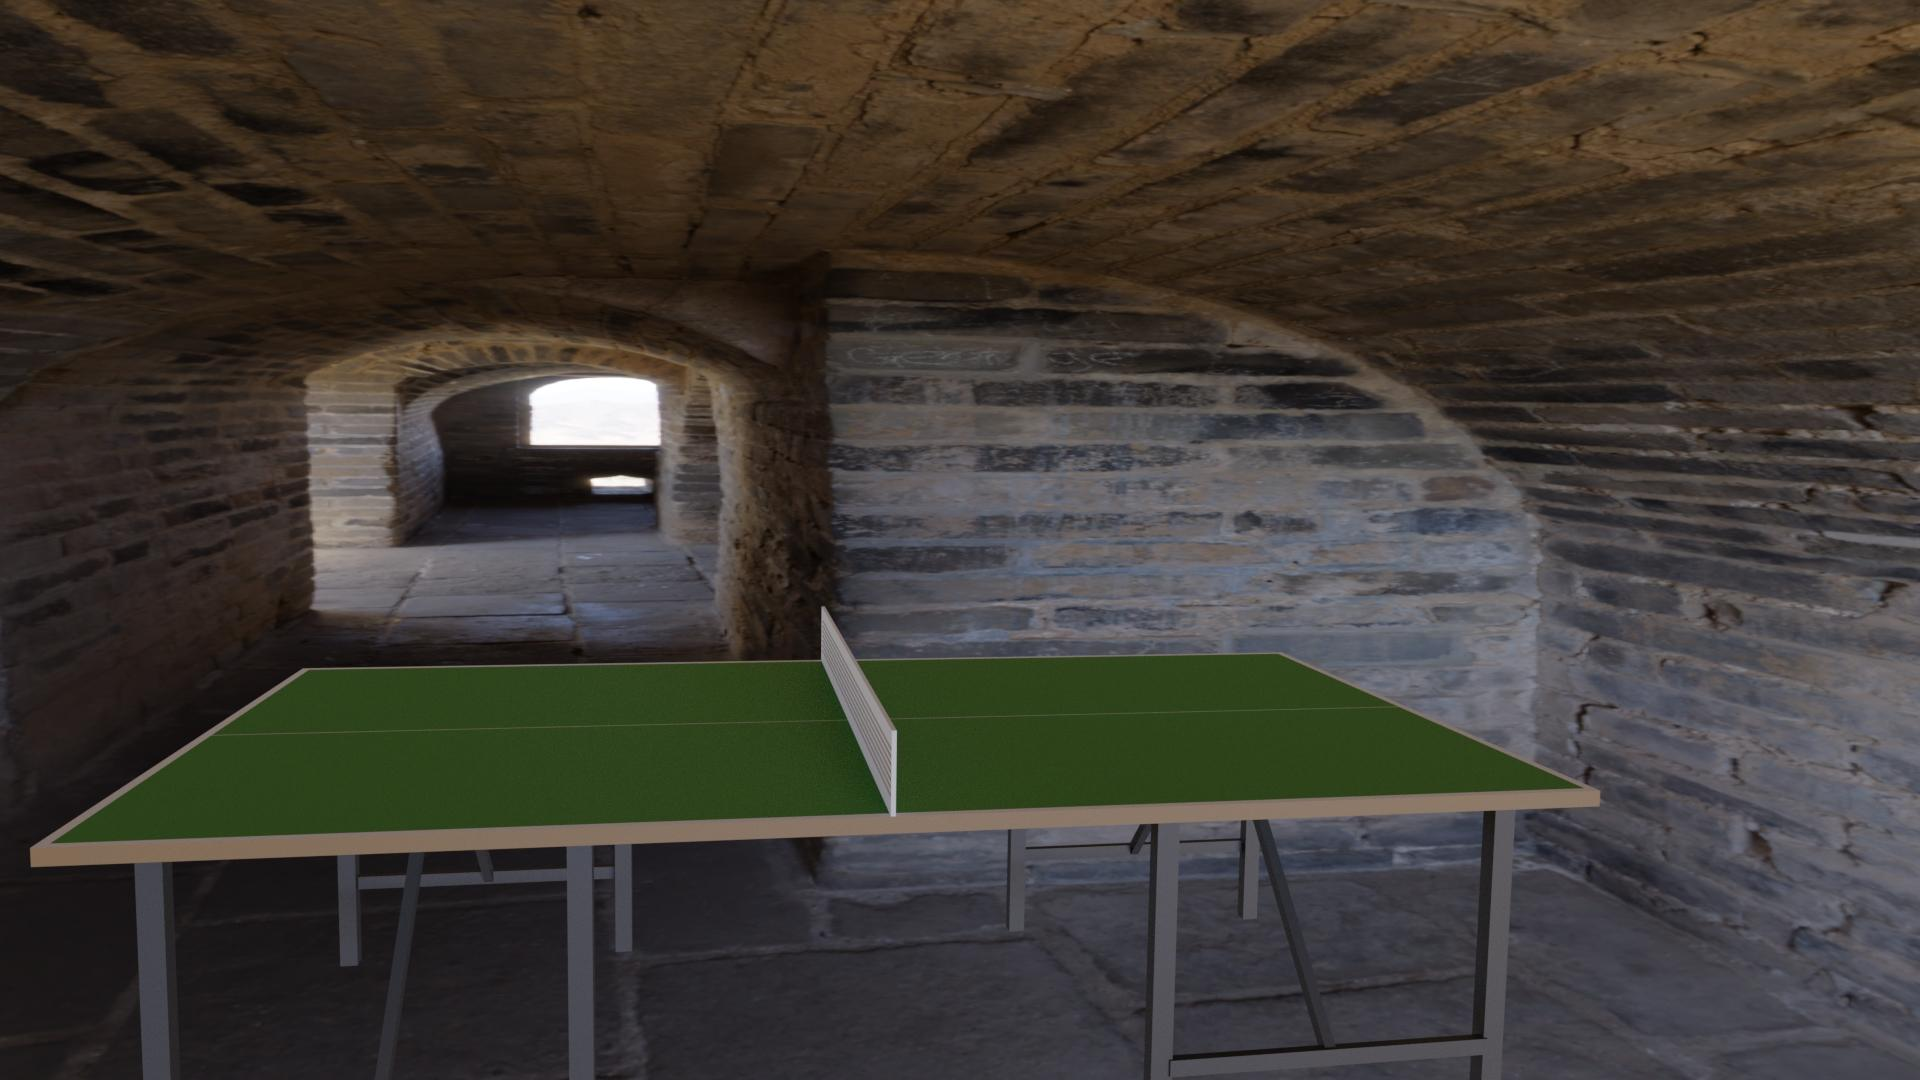table: (50, 654, 1585, 844)
